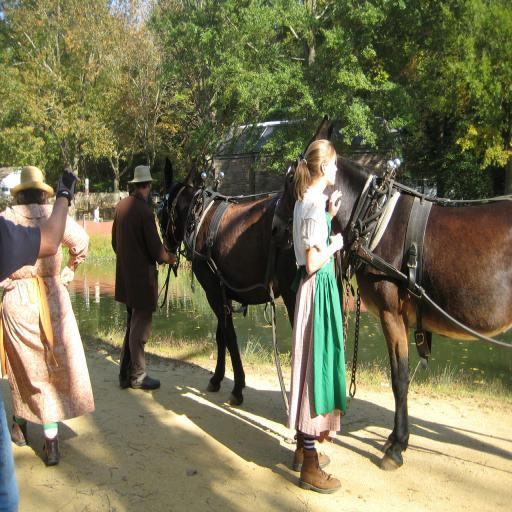Horse: (272, 113, 512, 470), (157, 158, 298, 406)
